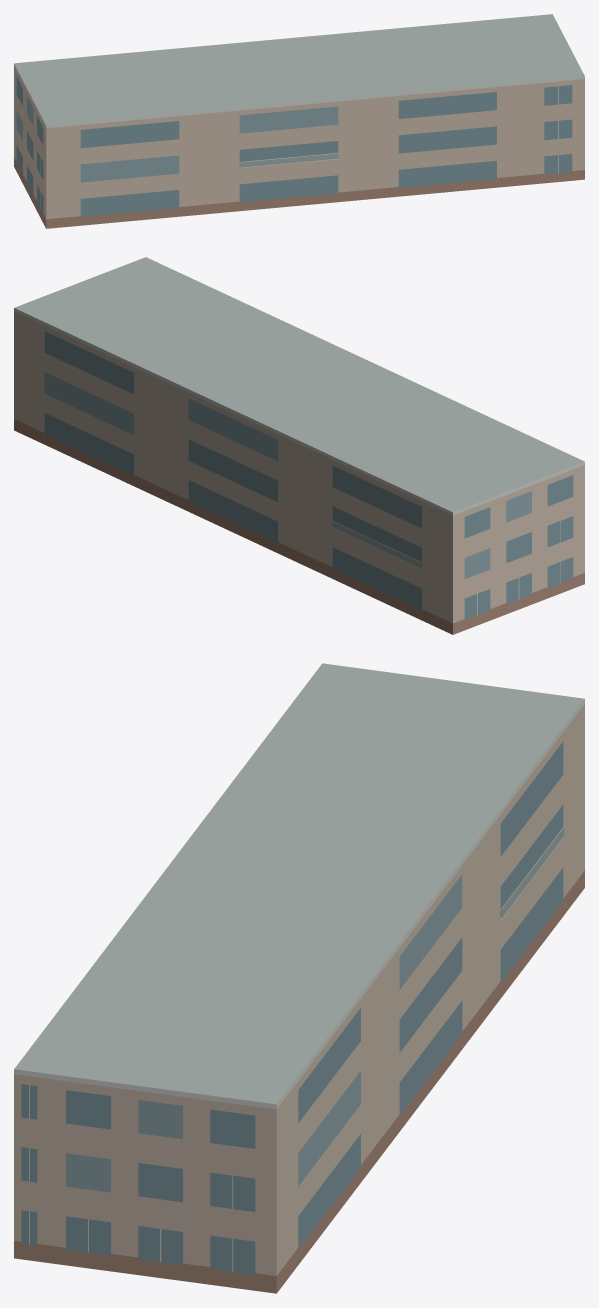
Rendered from survey-upis-32676482.glb.
3 renders of one model, top to bottom at view 1: azimuth 30°, elevation 25°; view 2: azimuth 150°, elevation 25°; view 3: azimuth 270°, elevation 25°, orthographic. The views are drawn at different scales.
Visible parts, largest first — view 1: survey-upis-32676482.tmp; view 2: survey-upis-32676482.tmp; view 3: survey-upis-32676482.tmp.
Boxes of the visible parts, x1,y1,x2,y2 form: survey-upis-32676482.tmp: (14, 14, 584, 228); survey-upis-32676482.tmp: (14, 257, 584, 634); survey-upis-32676482.tmp: (14, 663, 584, 1293).
Size of the model in its own units: 45.77 by 9.15 by 25.03.
